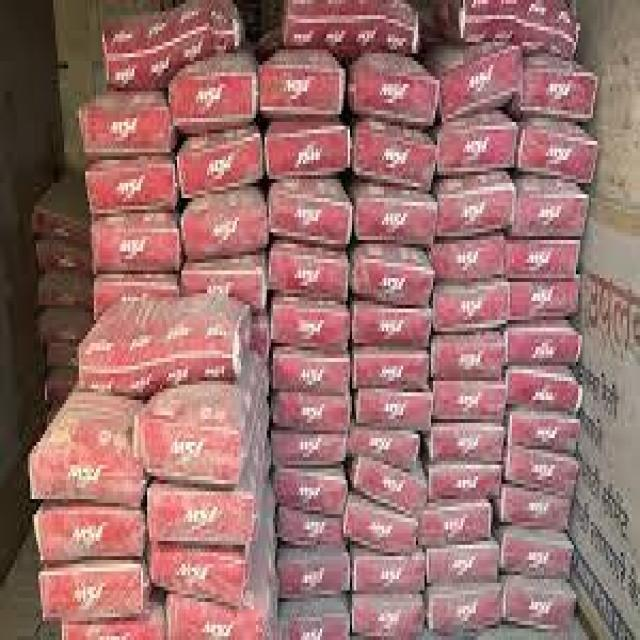gunny_bag: (145, 343, 270, 483), (77, 296, 251, 395), (31, 395, 143, 506), (108, 0, 243, 88), (150, 490, 254, 556), (179, 128, 260, 199), (88, 159, 178, 220), (149, 549, 242, 608), (445, 42, 518, 116), (267, 119, 346, 185), (41, 513, 139, 566), (355, 192, 439, 248), (360, 128, 435, 190), (85, 104, 174, 156), (354, 251, 438, 306), (186, 199, 261, 260), (176, 69, 256, 126), (523, 128, 599, 187), (343, 495, 416, 556), (441, 118, 515, 178), (360, 62, 435, 121), (94, 216, 178, 268), (358, 455, 425, 519), (509, 403, 581, 462), (437, 281, 510, 339), (505, 573, 574, 634), (274, 248, 350, 303), (272, 296, 348, 350), (276, 464, 345, 521), (509, 235, 586, 286), (263, 68, 340, 118), (271, 192, 348, 242), (350, 300, 430, 348), (528, 62, 594, 119), (433, 329, 502, 383), (505, 326, 583, 372), (272, 350, 349, 395), (352, 353, 425, 400), (278, 556, 350, 603), (422, 504, 493, 551), (430, 545, 498, 594), (432, 589, 502, 635), (506, 485, 572, 533), (518, 187, 587, 232), (508, 532, 572, 580), (274, 393, 347, 435), (434, 424, 503, 468), (432, 462, 498, 507), (353, 594, 424, 635), (431, 384, 507, 421), (355, 552, 423, 592), (358, 395, 432, 429)
